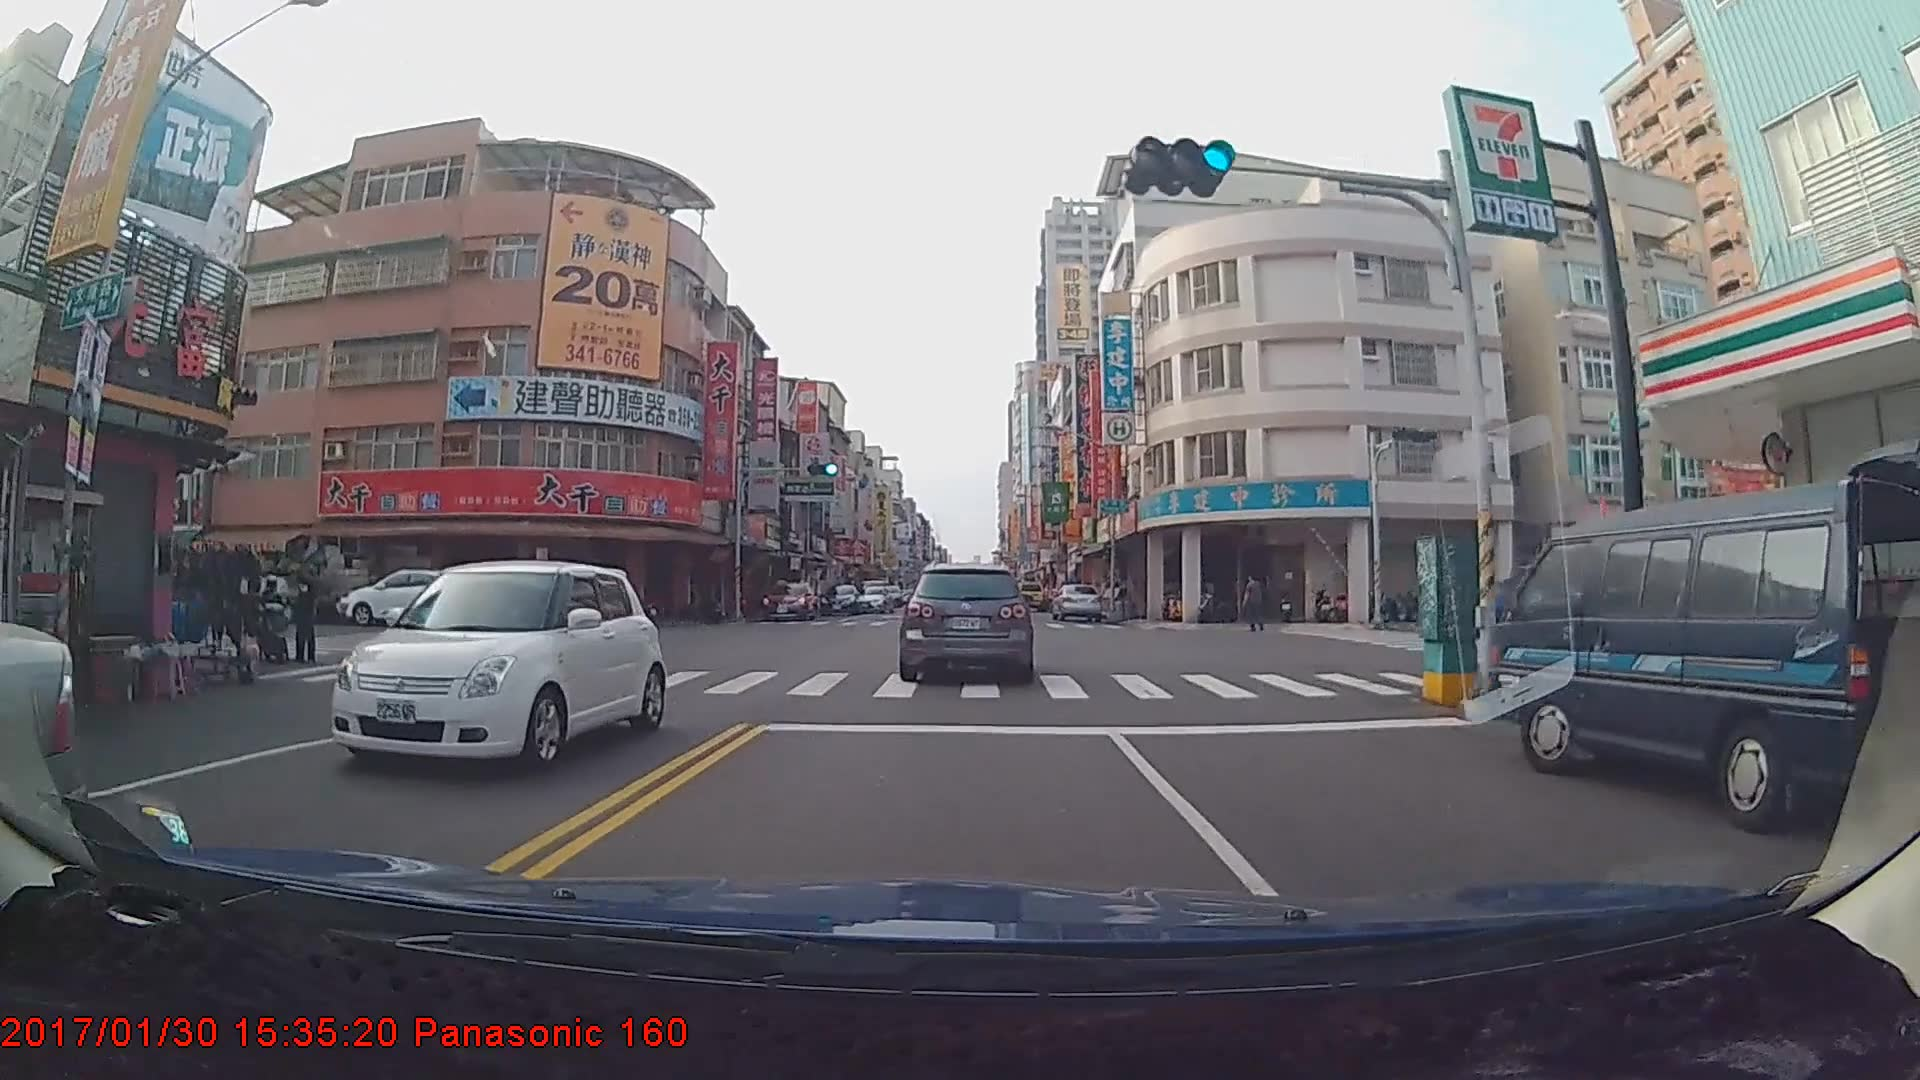pedestrian: (293, 580, 321, 668), (1242, 574, 1267, 635)
rider: (252, 566, 289, 669)
vehicle: (1484, 485, 1920, 823), (328, 558, 665, 771), (898, 563, 1034, 683), (334, 568, 476, 631), (763, 578, 815, 622), (1050, 582, 1103, 624), (819, 584, 861, 615), (1010, 581, 1045, 616), (853, 588, 893, 617)
